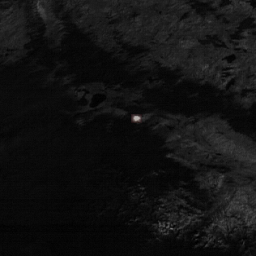Target: (133, 115, 141, 122)
